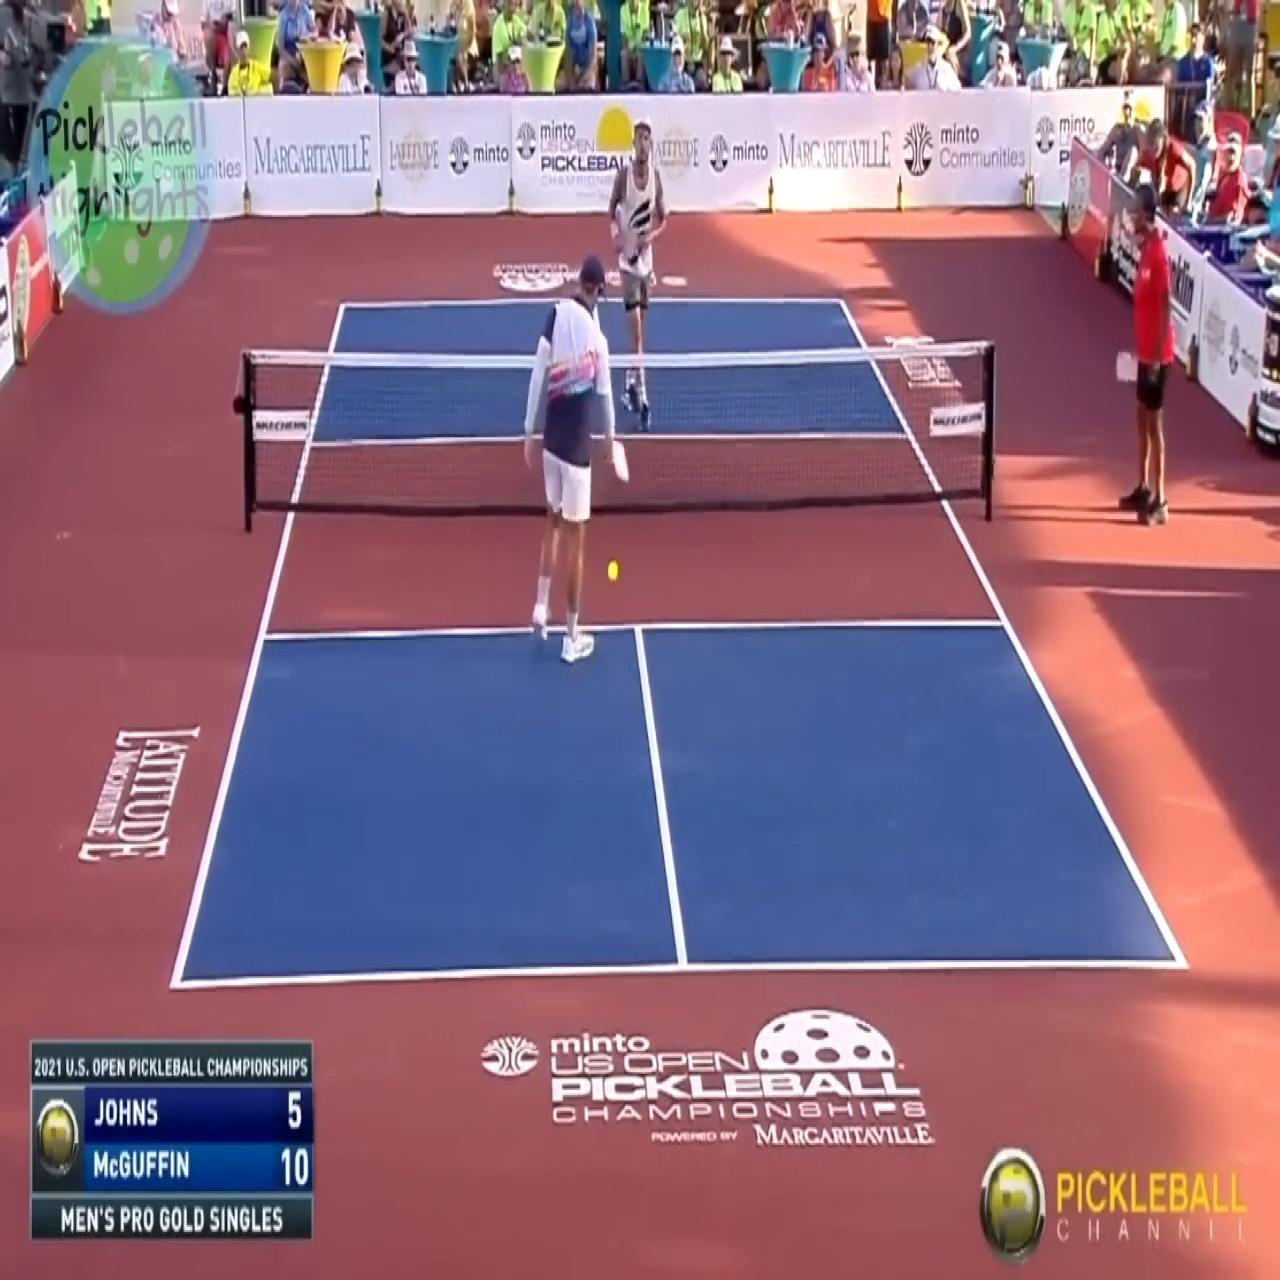pickleball: (607, 558, 619, 581)
